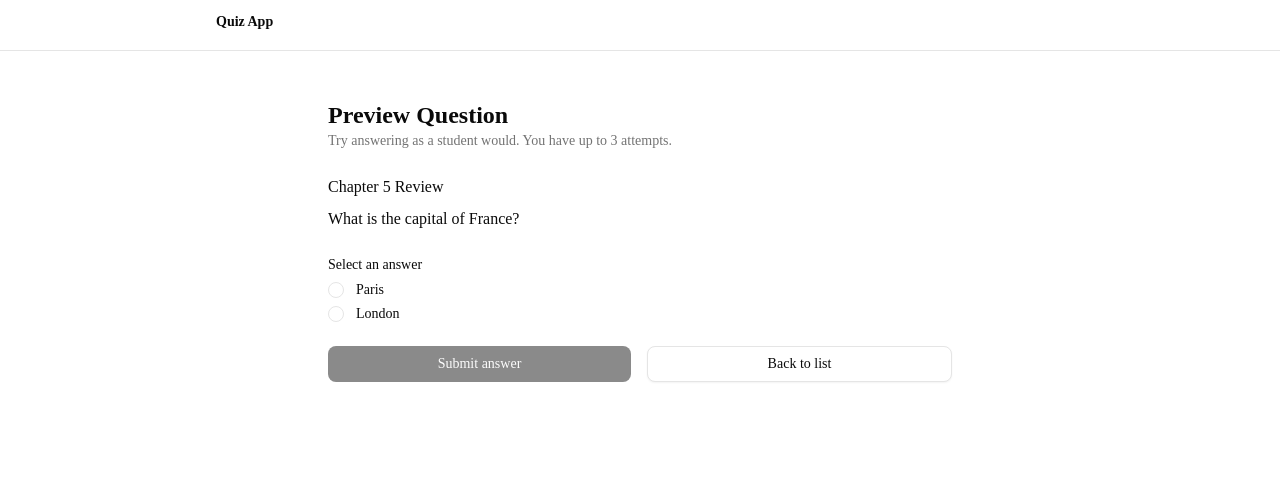
Scenario: McqPreview › allows another attempt after an incorrect answer with attempts remaining
Click the radio button named "London" next to "London" at (336, 314), box 328,306 -> 344,322
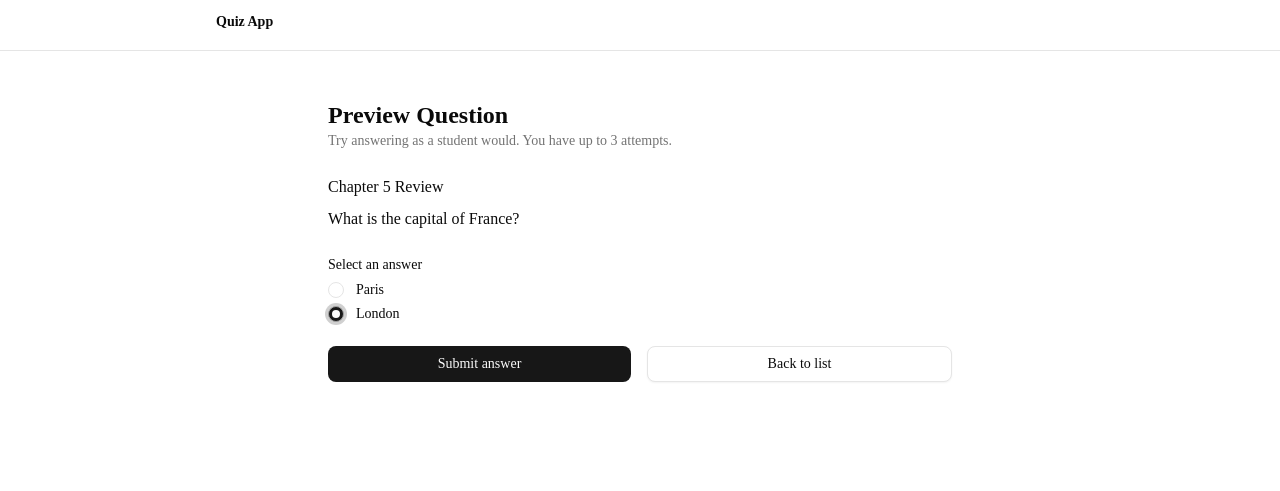
Click the button "Submit answer" at (480, 364), box 328,346 -> 631,382
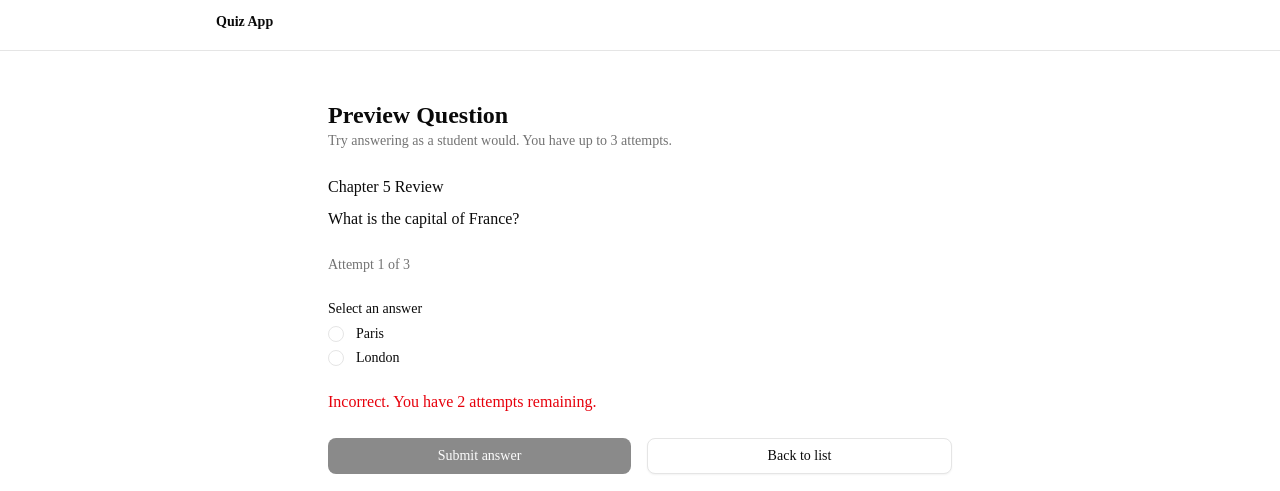
Expected: the text "Incorrect. You have 2 attempts remaining." is shown, 328,393 -> 596,410
Expected: the button "Submit answer" is disabled, 328,438 -> 631,474
